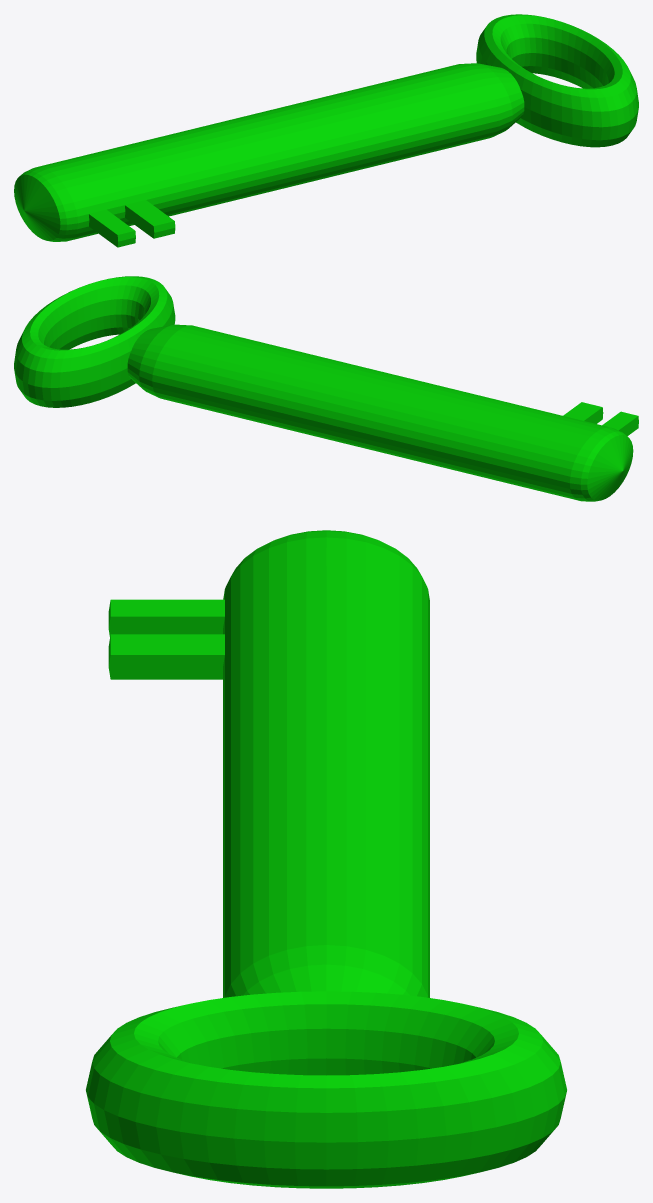
File: Key.fbx
3 renders of one model, top to bottom at view 1: azimuth 30°, elevation 25°; view 2: azimuth 150°, elevation 25°; view 3: azimuth 270°, elevation 25°, orthographic. The views are drawn at different scales.
Parts seen in each view (by area): view 1: Key; view 2: Key; view 3: Key.
Part boxes in pixels (x1,y1,x2,y2): Key: (14, 14, 638, 247); Key: (14, 276, 638, 501); Key: (86, 530, 566, 1188).
Bounding box in the file's own units: 5.33 × 0.5566 × 1.91.
